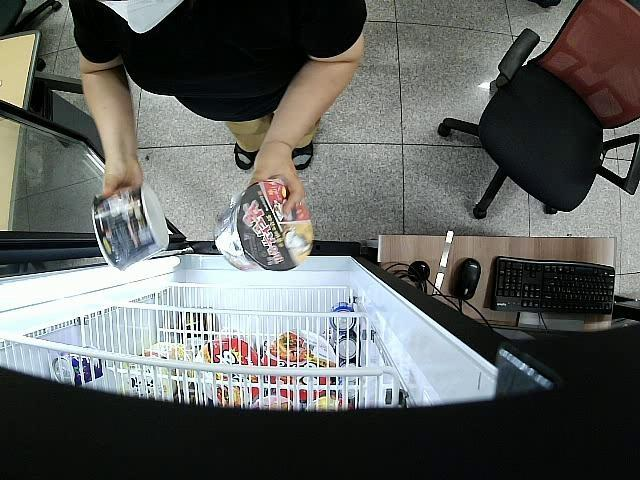07_buldak_L: (216, 180, 313, 274), (92, 185, 170, 272)
